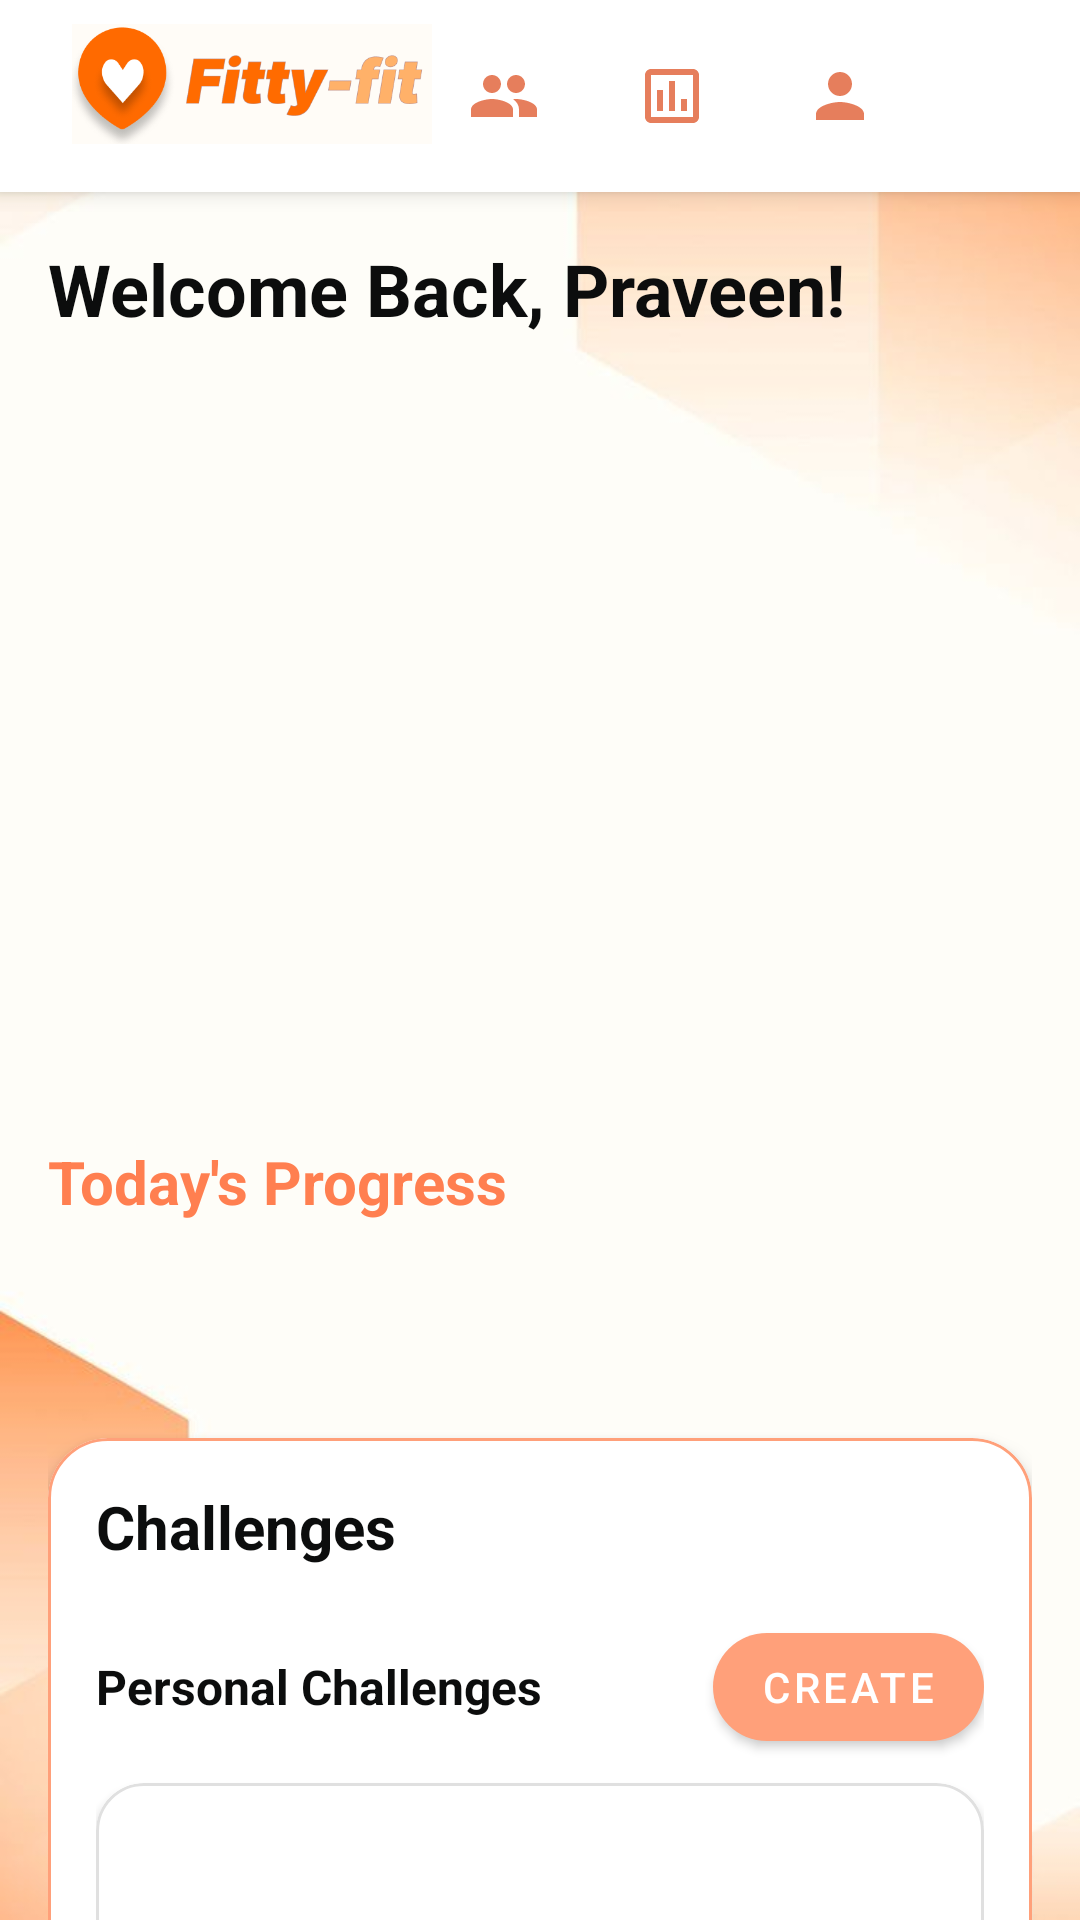

Named icons in this screenshot (1080w x 1920h) and their bounding boxes, (x1, y1, x2, y2):
community: (471, 75, 537, 117)
profile: (816, 72, 864, 120)
